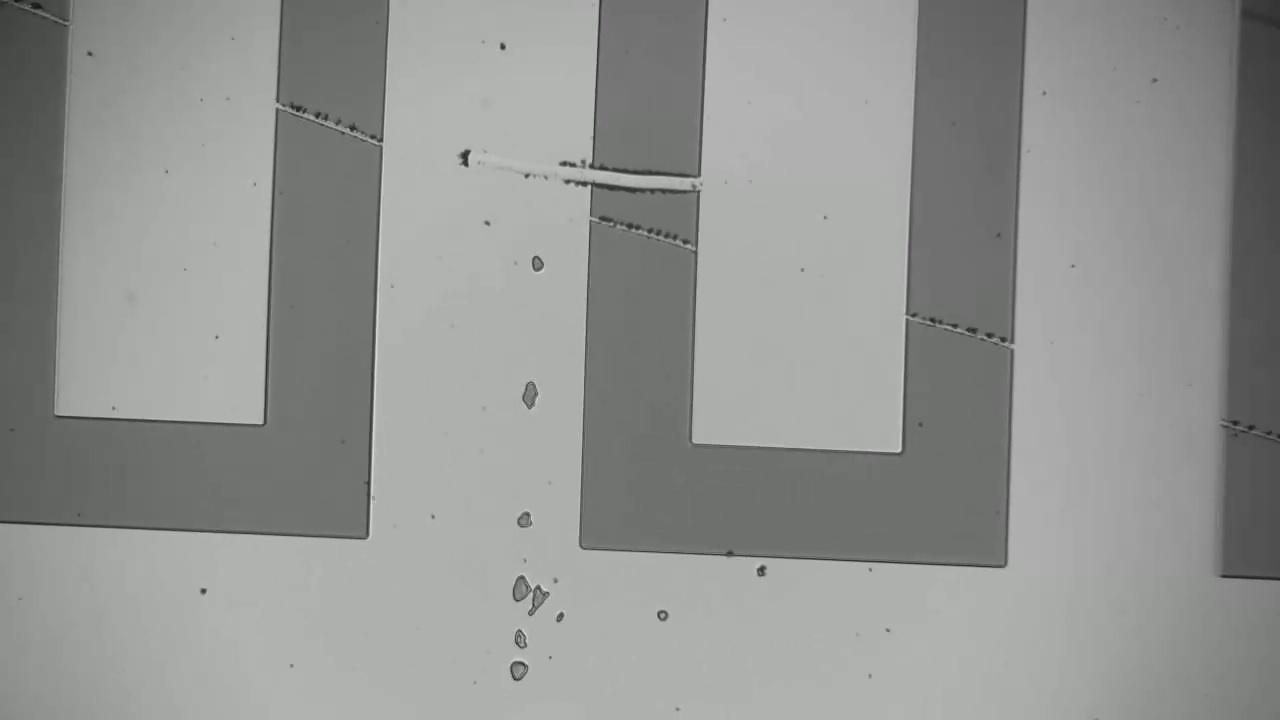Short_circuit: (563, 140, 731, 211)
scratch: (285, 99, 371, 142), (598, 211, 687, 247), (911, 309, 1007, 342), (1235, 421, 1279, 448)
